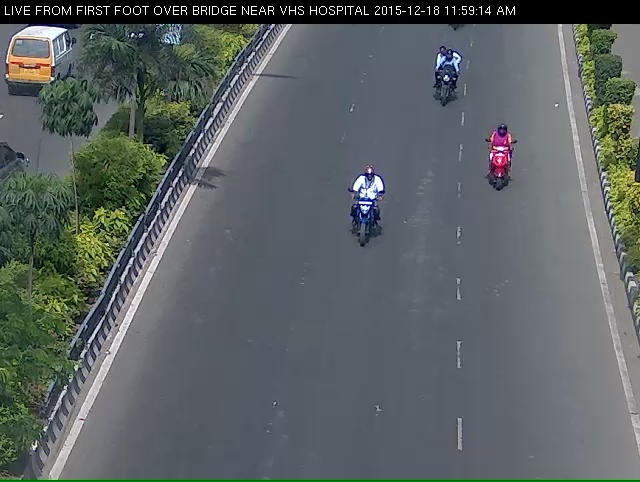Person: (341, 168, 397, 273), (481, 125, 517, 203), (421, 49, 462, 113)
